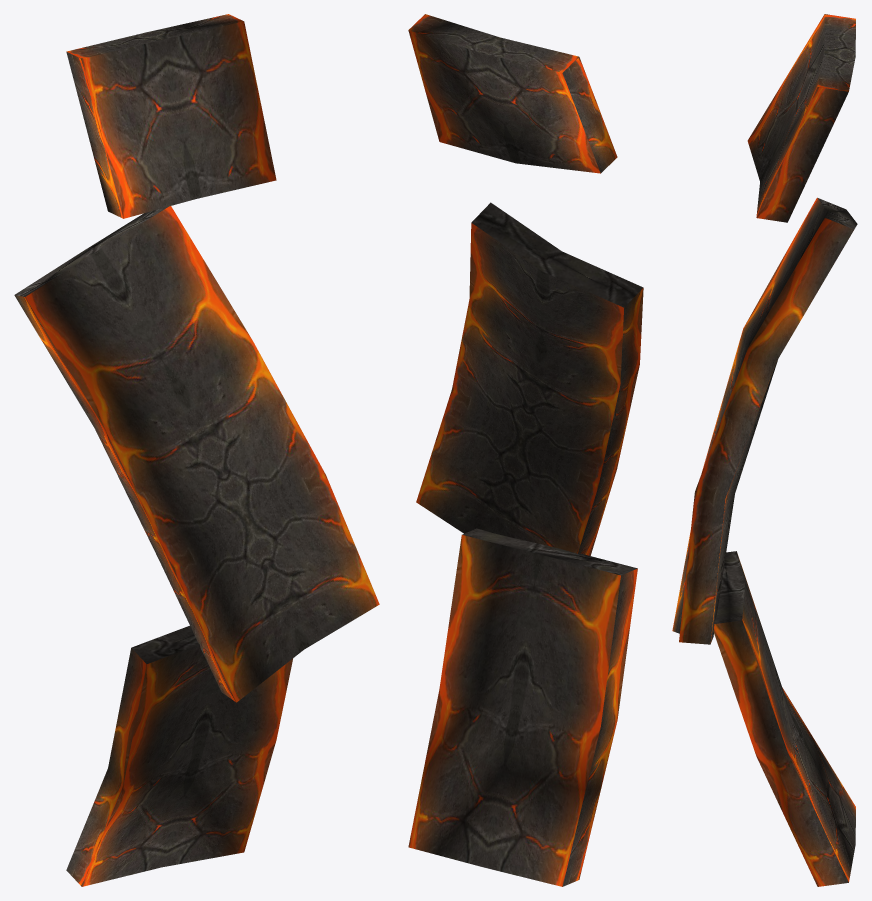
The model's file is bridge-destr_06.obj.
The picture shows the model from 3 angles, left to right: view 1: azimuth 30°, elevation 25°; view 2: azimuth 150°, elevation 25°; view 3: azimuth 270°, elevation 25°; orthographic projection. The views are drawn at different scales.
Parts seen in each view (by area): view 1: (null); view 2: (null); view 3: (null).
Boxes of the visible parts, x1,y1,x2,y2 form: (null): (14, 14, 379, 886); (null): (408, 14, 643, 886); (null): (672, 14, 857, 886).
Size of the model in its own units: 3.45 by 9.64 by 2.02.
